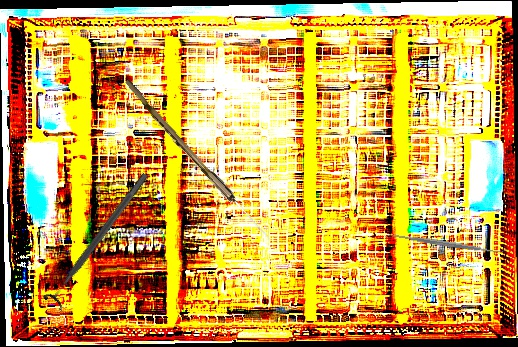Fixation Ring: (41, 167, 157, 312)
Spatula Surgical: (384, 227, 508, 260)
Surgical Spoon: (121, 79, 275, 243)
